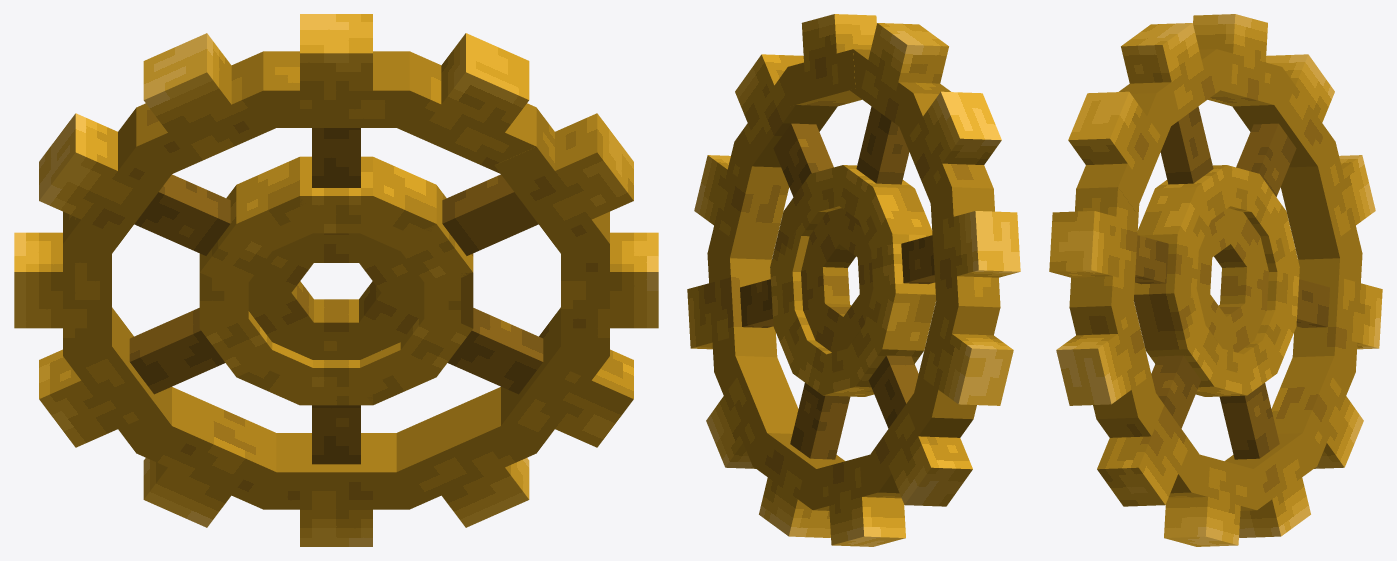
File: icon_golden_gear_a.gltf
3 renders of one model, left to right at view 1: azimuth 30°, elevation 25°; view 2: azimuth 150°, elevation 25°; view 3: azimuth 270°, elevation 25°, orthographic. The views are drawn at different scales.
Visible parts, largest first — view 1: gear_a_07-Local, gear_a_05-Local, gear_a_09-Local, gear_a_11-Local, gear_a_03-Local, gear_a_01-Local, gear_a_08-Local, gear_a_02-Local, gear_a_06-Local, gear_a_12-Local, gear_a_10-Local, gear_a_04-Local (+12 smaller); view 2: gear_a_09-Local, gear_a_11-Local, gear_a_07-Local, gear_a_10-Local, gear_a_01-Local, gear_a_08-Local, gear_a_05-Local, gear_a_03-Local, gear_a_04-Local, gear_a_02-Local, gear_a_12-Local, gear_a_06-Local (+12 smaller); view 3: gear_a_03-Local, gear_a_05-Local, gear_a_07-Local, gear_a_04-Local, gear_a_09-Local, gear_a_01-Local, gear_a_06-Local, gear_a_11-Local, gear_a_10-Local, gear_a_12-Local, gear_a_02-Local, gear_a_08-Local (+12 smaller).
Part boxes in pixels (x1,y1,x2,y2): gear_a_07-Local: [263, 14, 409, 187]; gear_a_05-Local: [442, 108, 633, 255]; gear_a_09-Local: [39, 108, 230, 262]; gear_a_11-Local: [39, 307, 225, 453]; gear_a_03-Local: [447, 307, 633, 453]; gear_a_01-Local: [263, 405, 409, 546]; gear_a_08-Local: [136, 33, 286, 178]; gear_a_02-Local: [385, 387, 536, 527]; gear_a_06-Local: [397, 33, 536, 173]; gear_a_12-Local: [136, 387, 276, 527]; gear_a_10-Local: [14, 232, 111, 356]; gear_a_04-Local: [561, 232, 658, 356]; gear_a_09-Local: [901, 187, 1020, 310]; gear_a_11-Local: [866, 355, 973, 506]; gear_a_07-Local: [850, 23, 950, 184]; gear_a_10-Local: [911, 291, 1013, 419]; gear_a_01-Local: [753, 383, 850, 537]; gear_a_08-Local: [895, 91, 1001, 210]; gear_a_05-Local: [734, 54, 837, 196]; gear_a_03-Local: [687, 248, 777, 371]; gear_a_04-Local: [694, 142, 789, 267]; gear_a_02-Local: [706, 348, 798, 468]; gear_a_12-Local: [810, 453, 905, 546]; gear_a_06-Local: [787, 14, 876, 106]; gear_a_03-Local: [1096, 355, 1203, 506]; gear_a_05-Local: [1049, 187, 1168, 311]; gear_a_07-Local: [1119, 23, 1225, 184]; gear_a_04-Local: [1056, 291, 1158, 419]; gear_a_09-Local: [1232, 54, 1335, 196]; gear_a_01-Local: [1219, 383, 1316, 537]; gear_a_06-Local: [1068, 91, 1174, 211]; gear_a_11-Local: [1292, 247, 1382, 372]; gear_a_10-Local: [1280, 142, 1375, 267]; gear_a_12-Local: [1271, 348, 1363, 468]; gear_a_02-Local: [1164, 453, 1259, 546]; gear_a_08-Local: [1193, 14, 1282, 106].
Bounding box in the file's own units: 48.9 × 52.28 × 33.29.
24 materials, 24 textured.
